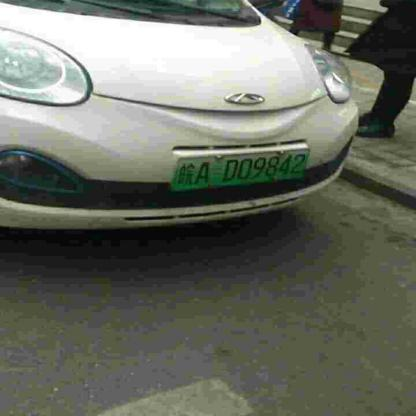lp: (170, 148, 311, 190)
